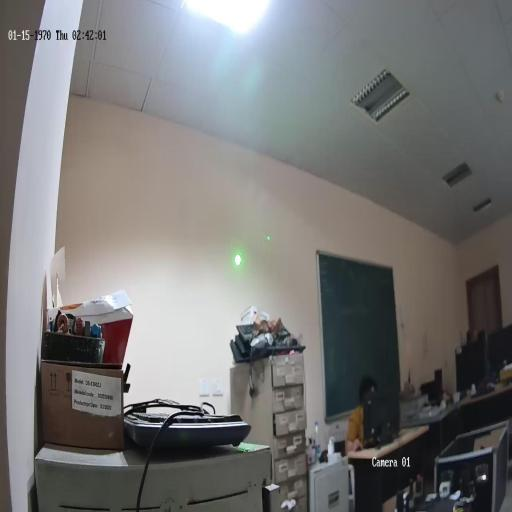laser: (232, 249, 242, 269)
